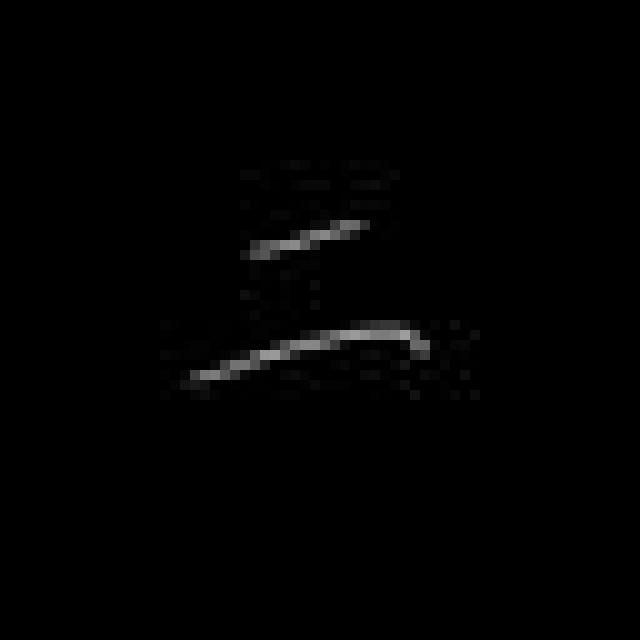2 -two-: (177, 208, 433, 400)
